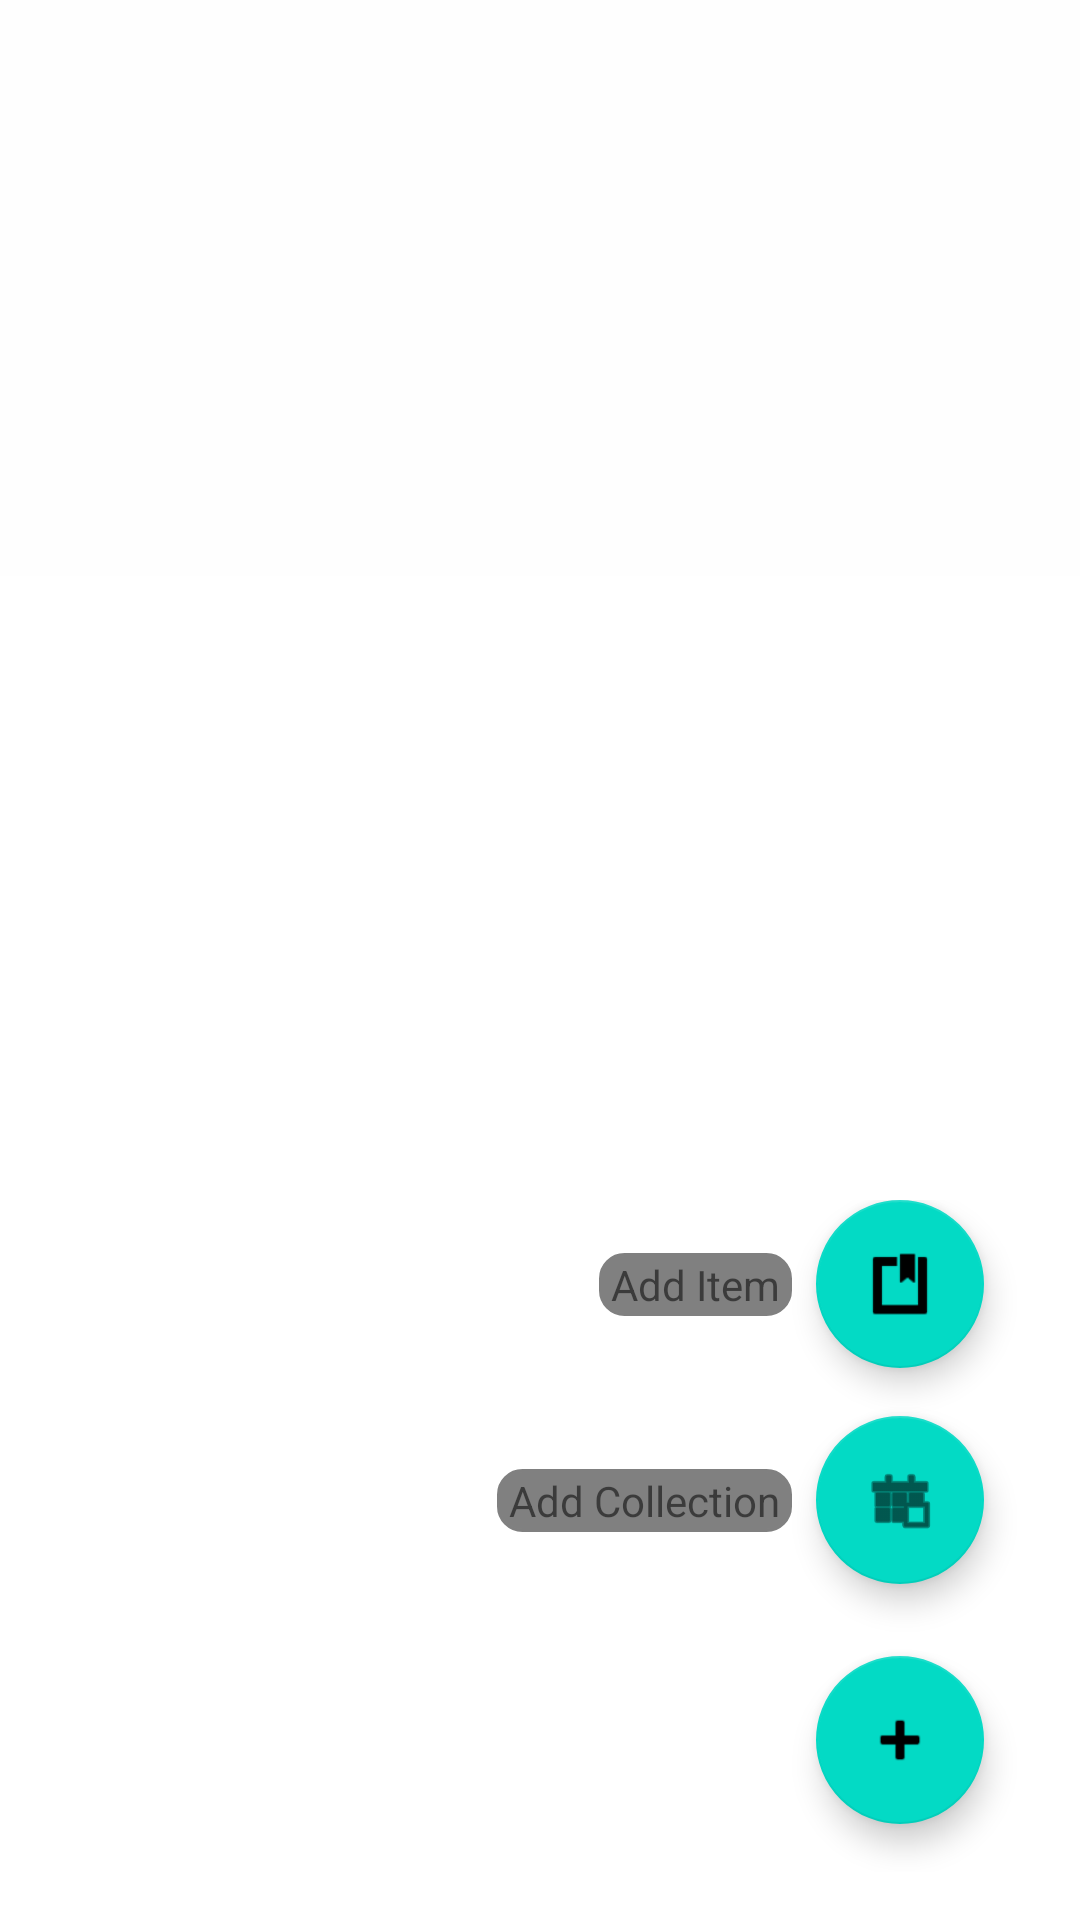

Icon bounding boxes for this 1080*1920 phone screenshot, format (x1, y1, x2, y2):
today: (816, 1416, 984, 1584)
